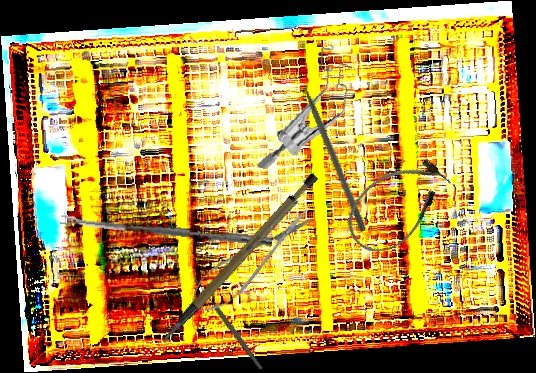Cannula: (333, 143, 462, 267)
Micro Scissor: (176, 197, 324, 328)
Pusher: (294, 66, 369, 233)
Scalpel Handle: (136, 169, 338, 345)
Speculum: (256, 36, 357, 180)
Surgical Spoon: (60, 213, 273, 247), (193, 277, 264, 371)
